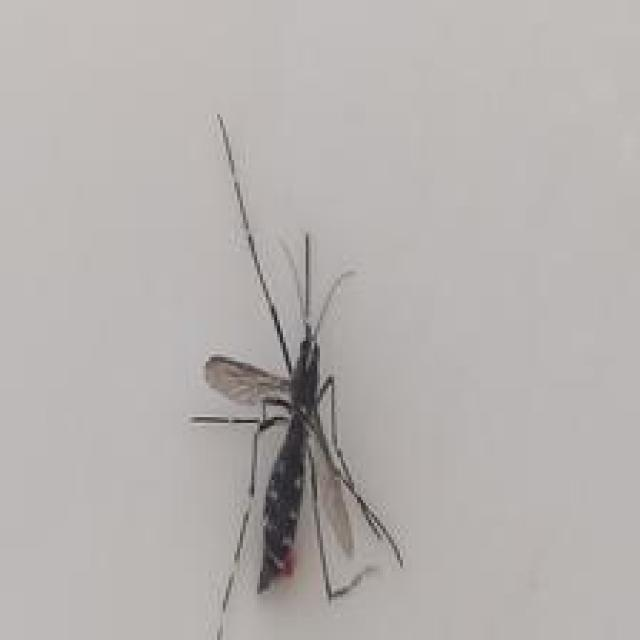Aedes albopictus: (187, 111, 404, 640)
